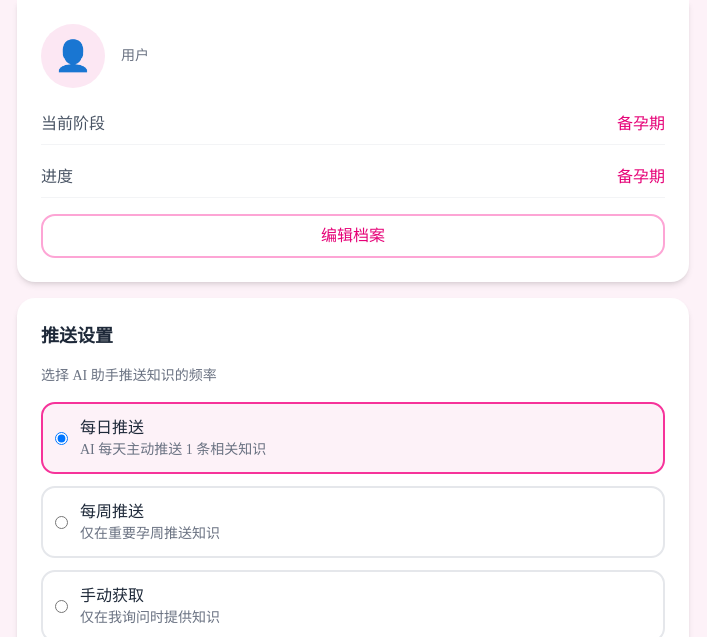
ProfilePage › 编辑模式 › 点击"取消"恢复原值
The width and height of the screenshot is (707, 637).
Click the button "编辑档案" at (353, 236), box [41,214,665,258]
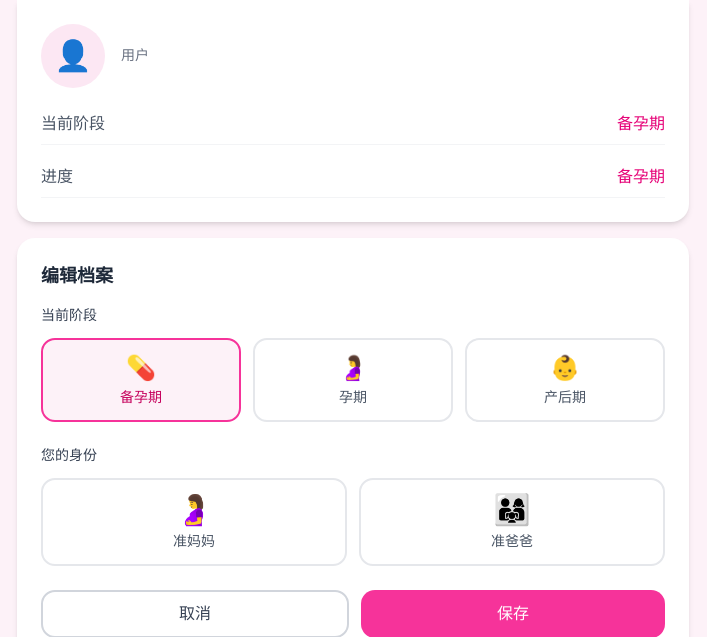
Click the text "孕期" at (353, 398), box [339,390,367,405]
(page scrolled)
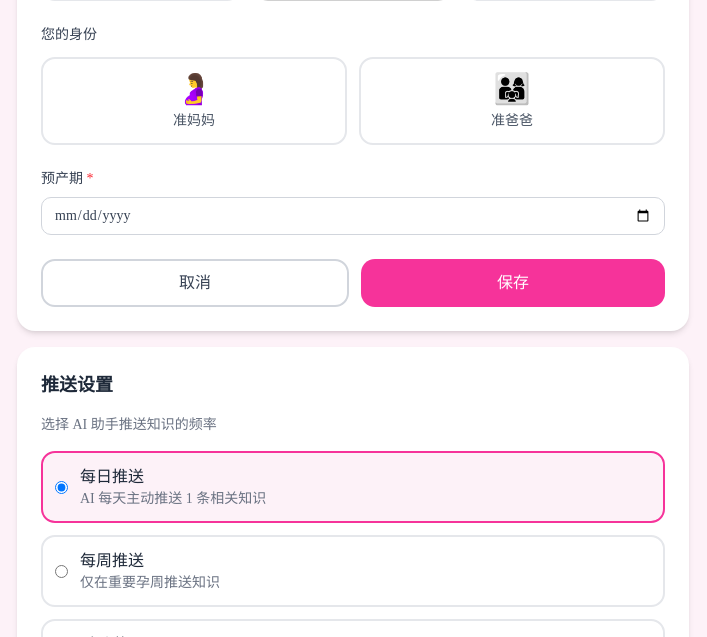
Click the button "取消" at (195, 283), box [41,259,349,307]
(page scrolled)
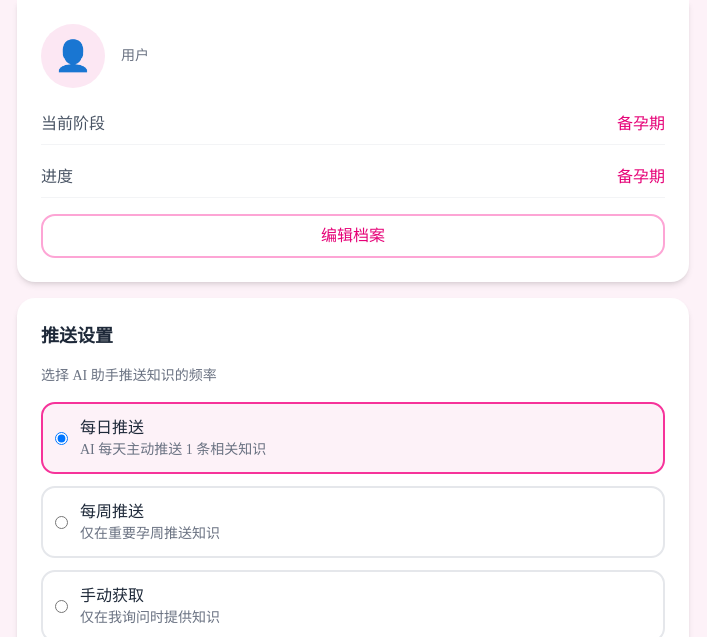
Expected: the button "编辑档案" is shown, [41,214,665,258]
Now the button "保存" is gone
